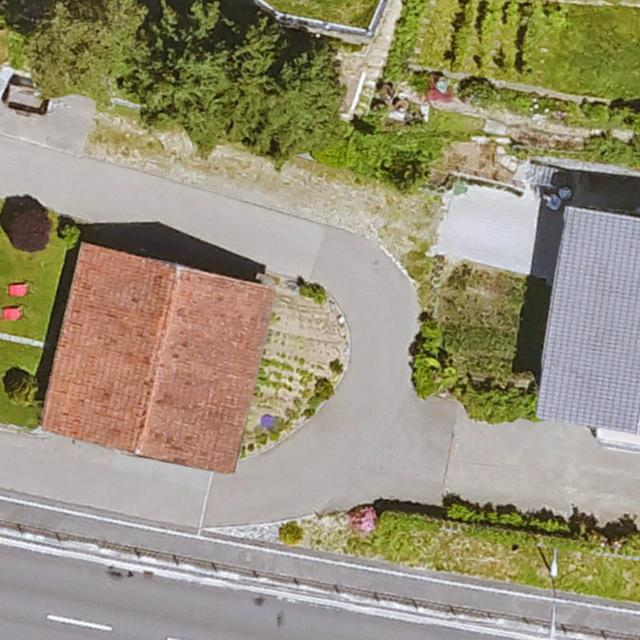tree: (138, 2, 287, 147), (22, 0, 149, 96), (271, 49, 344, 158), (2, 205, 52, 251), (6, 374, 36, 405)
